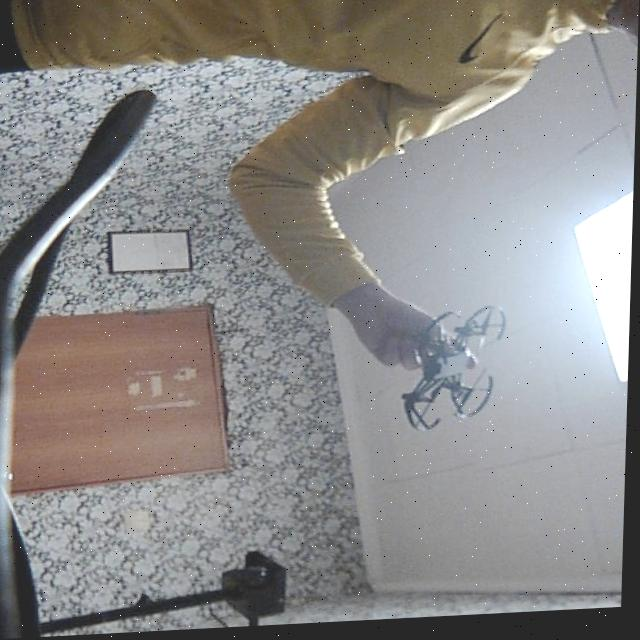drone: (397, 294, 529, 439)
